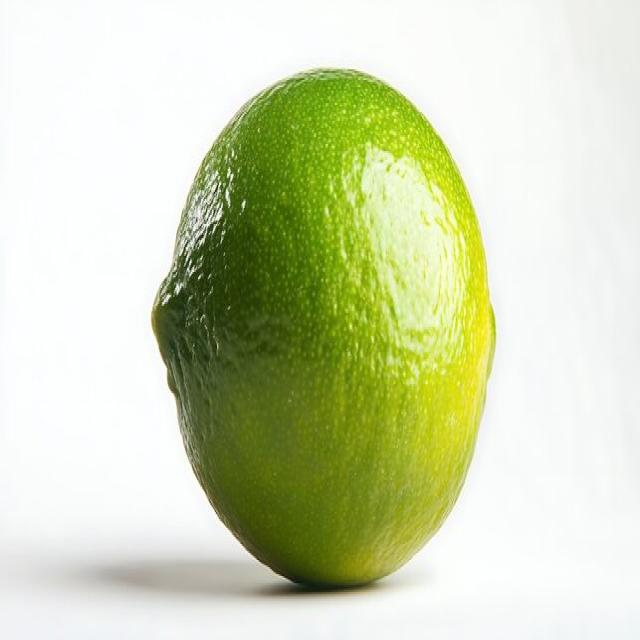Lemon: (150, 64, 497, 590)
